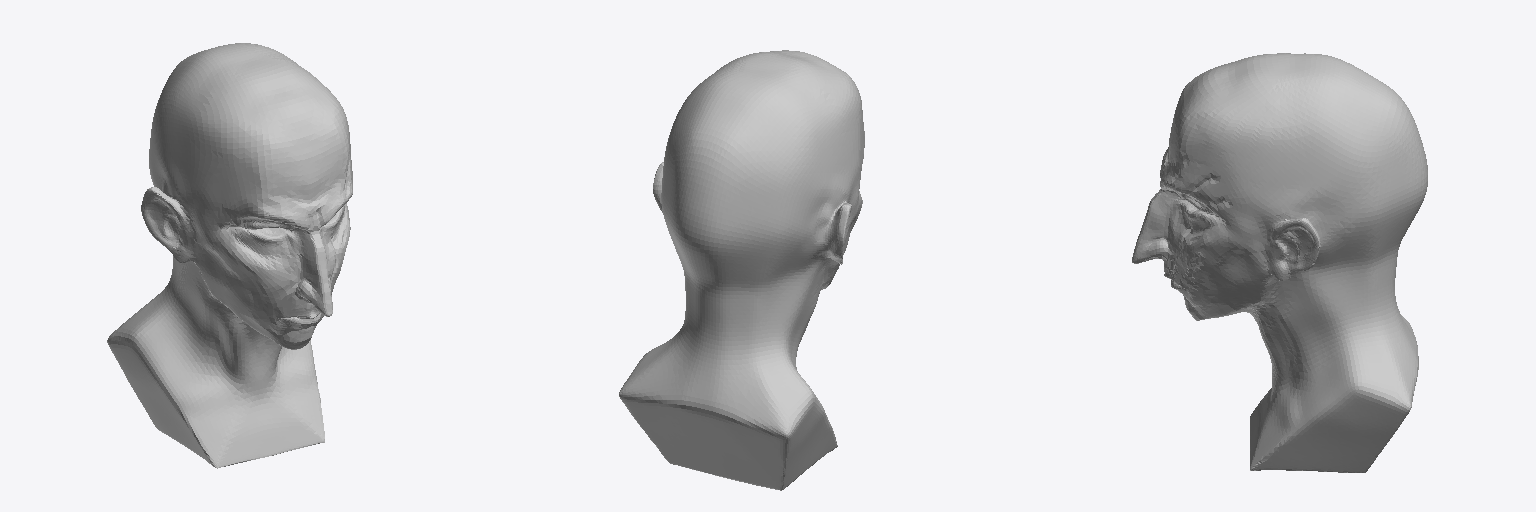
Rendered from silco.obj.
3 renders of one model, left to right at view 1: azimuth 30°, elevation 25°; view 2: azimuth 150°, elevation 25°; view 3: azimuth 270°, elevation 25°, orthographic.
Parts seen in each view (by area): view 1: silc; view 2: silc; view 3: silc.
Boxes of the visible parts, <box> form: silc: <box>107,43,352,468</box>; silc: <box>619,50,864,490</box>; silc: <box>1132,53,1427,472</box>.
Size of the model in its own units: 0.4426 by 0.8471 by 0.5943.